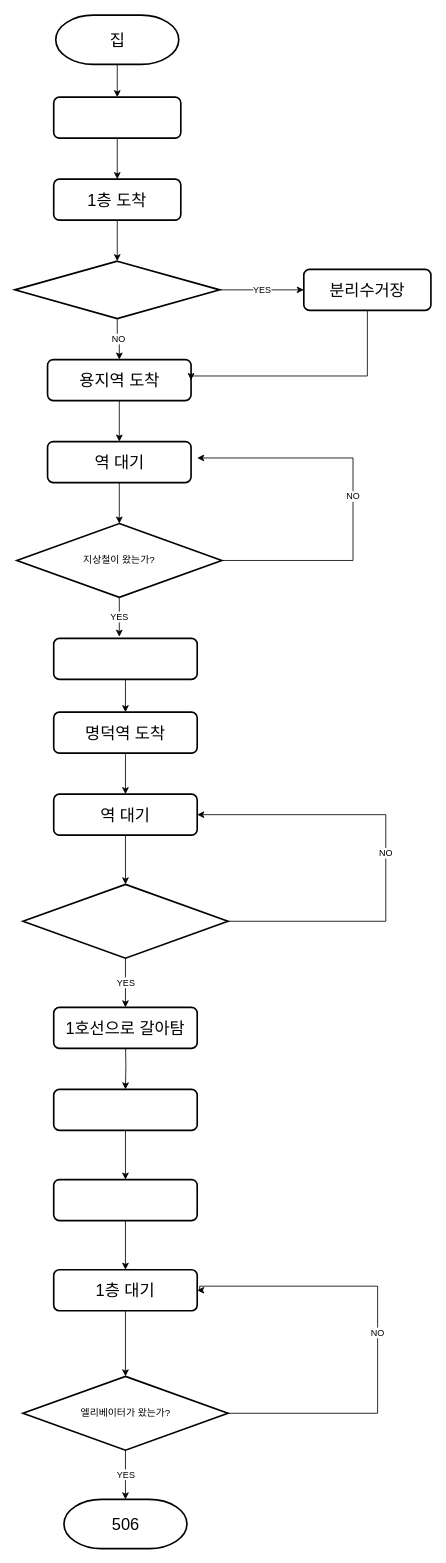
The diagram is 446 pixels wide and 1563 high, and some of its shapes have lost their labels. The shapes that lost their labels are listed below. From the top down, each one's box as (x1, y1, x2, y2) in pixels, then its label:
(52, 96, 181, 139): 계단
(14, 260, 220, 319): 버릴 쓰레기가 있는가?
(52, 637, 198, 680): 탑승
(22, 883, 228, 959): 지하철이 왔는가?
(52, 1088, 198, 1131): 반월당역 도착
(52, 1178, 198, 1221): 학원 1층 도착
